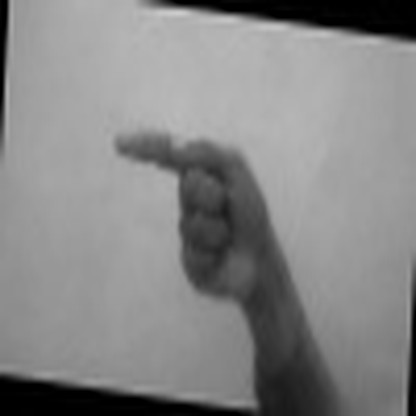g: (95, 112, 298, 301)
